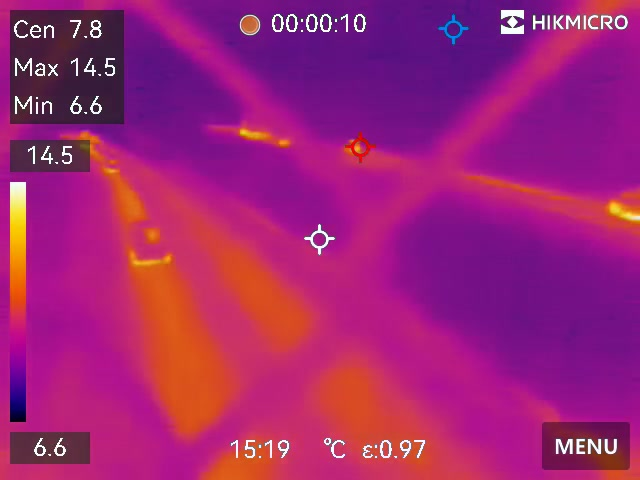vehicle: (120, 215, 174, 269)
